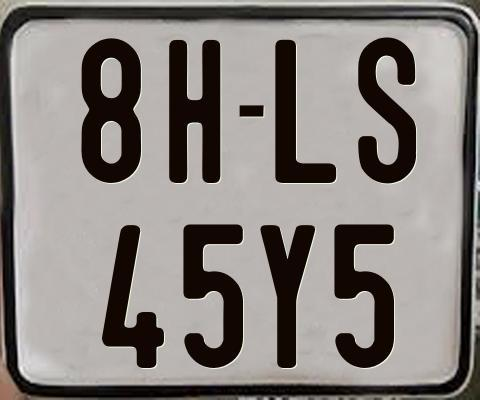4: (102, 222, 168, 368)
5: (183, 223, 246, 373), (333, 224, 396, 369)
8: (78, 36, 141, 184)
H: (168, 40, 220, 187)
L: (274, 38, 335, 183)
S: (358, 35, 419, 185)
Y: (259, 223, 319, 371)
